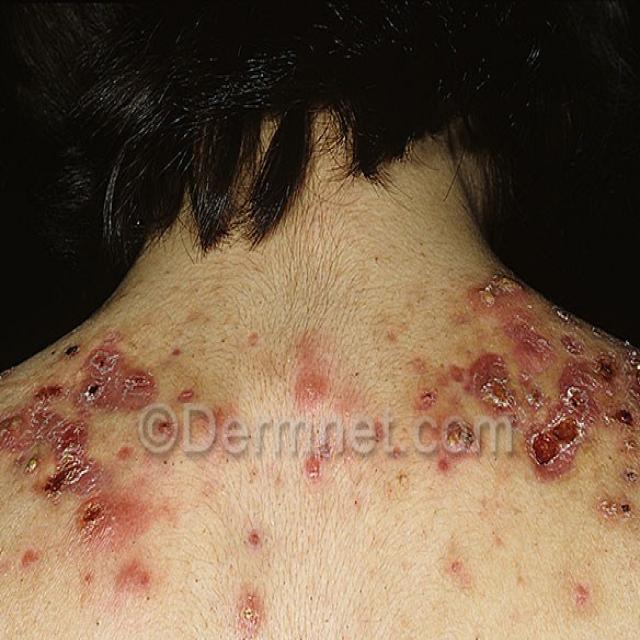Acne: (410, 345, 640, 502), (434, 224, 593, 358), (0, 393, 138, 532), (278, 341, 368, 515), (81, 335, 174, 440), (209, 511, 281, 640)
